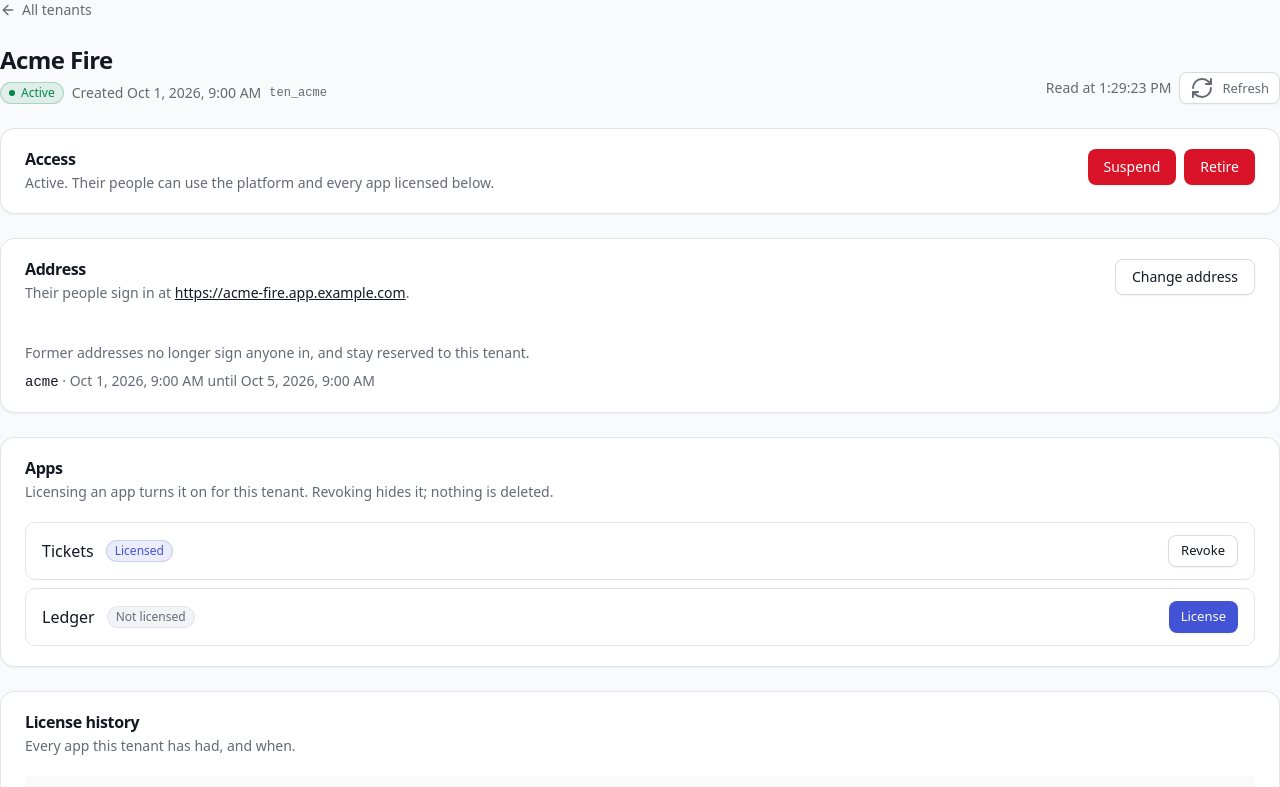
Test case: licensing › can back out of revoking
Click the button with aria-label "Revoke Tickets" at x=1203, y=551, box [1168,535,1238,567]
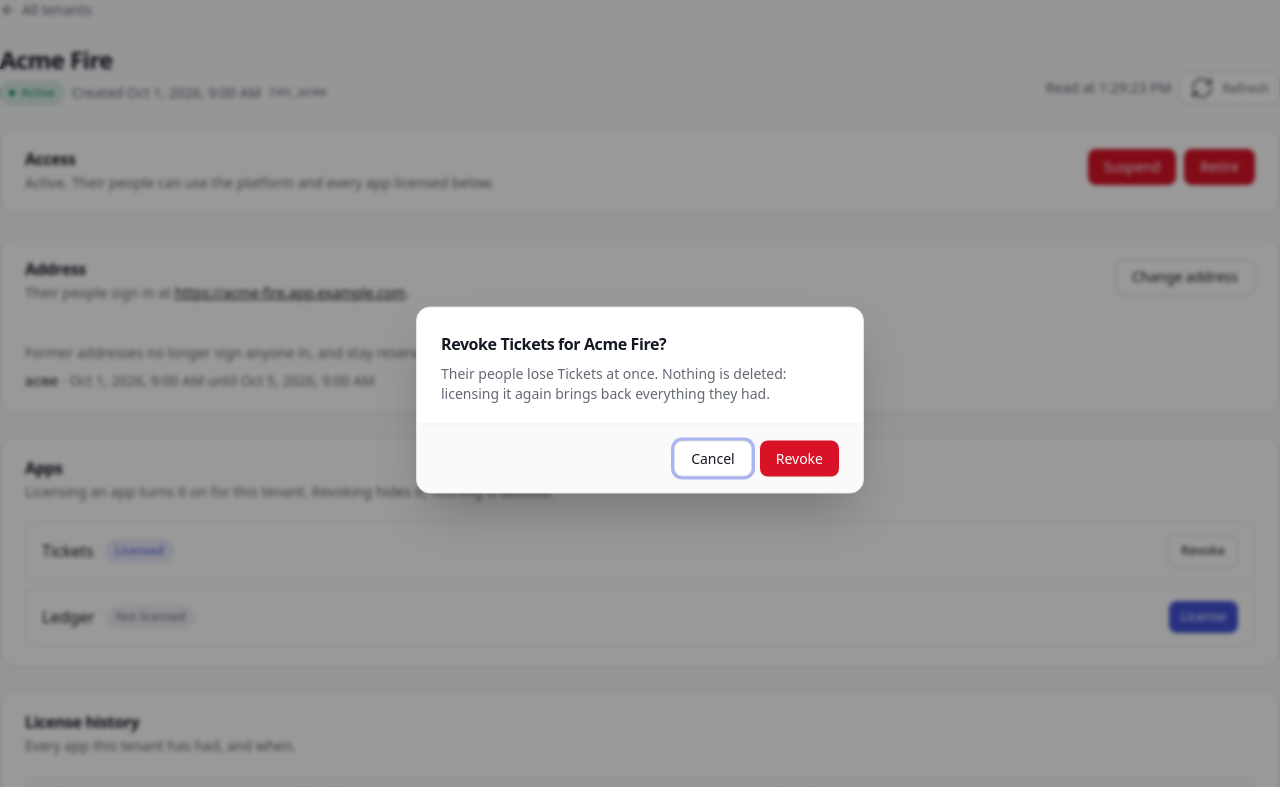
Click the button "Cancel" at x=713, y=458, box [674,440,752,476]
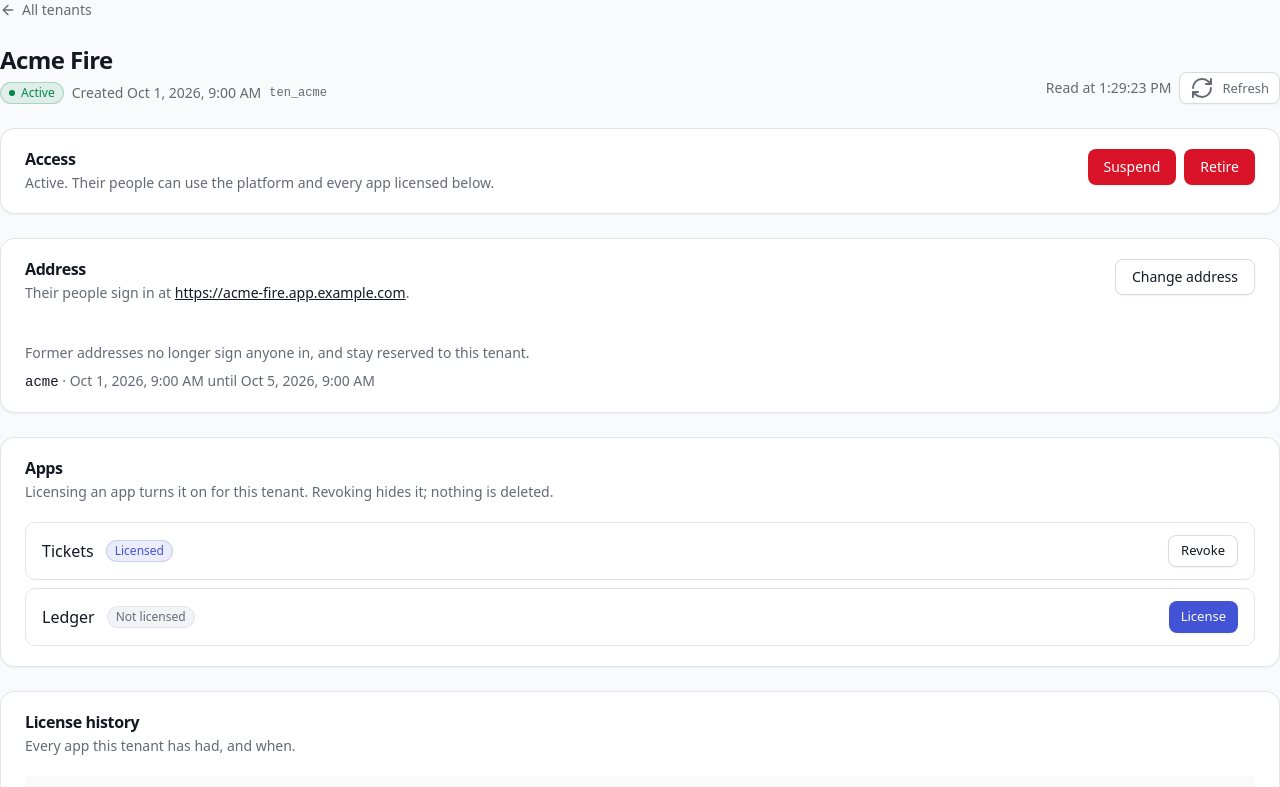
Result: the dialog is gone
